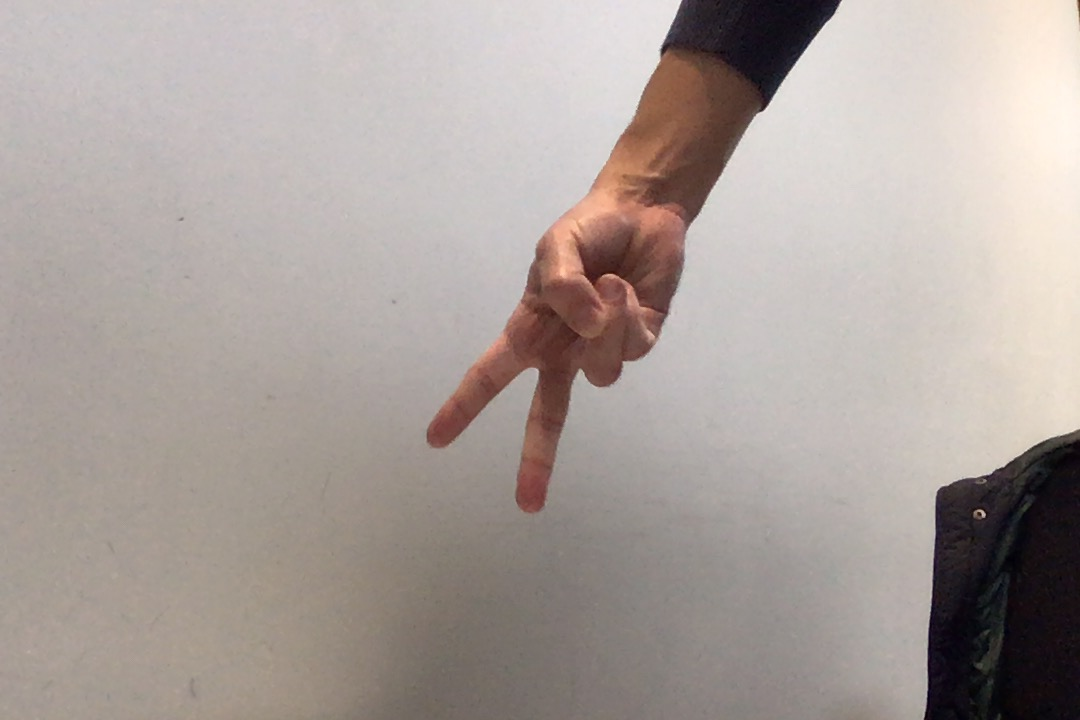peacesign: (417, 195, 692, 520)
